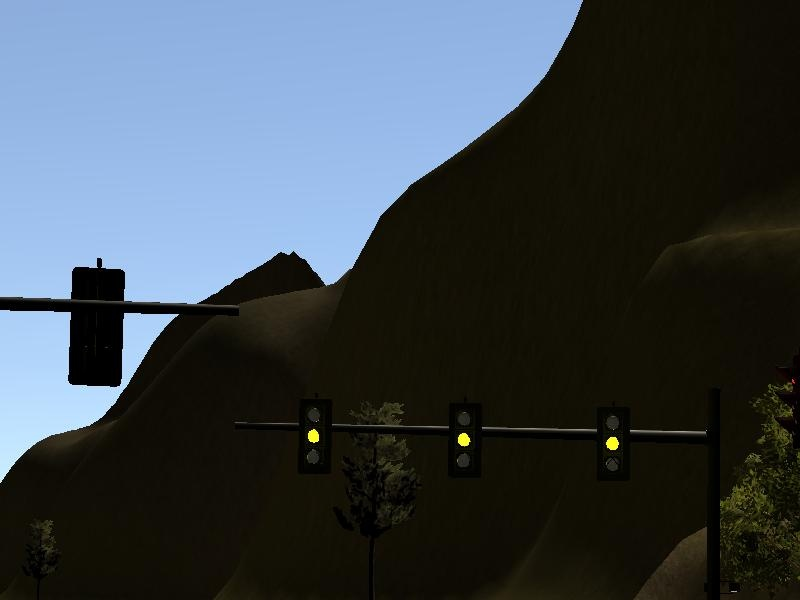yellow: (449, 403, 483, 479), (299, 399, 332, 476), (598, 408, 629, 483)
